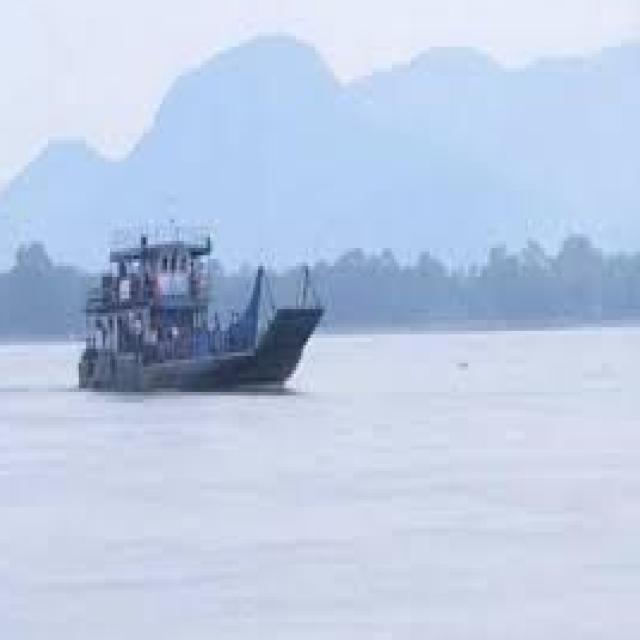fishing boat: (83, 223, 349, 393)
